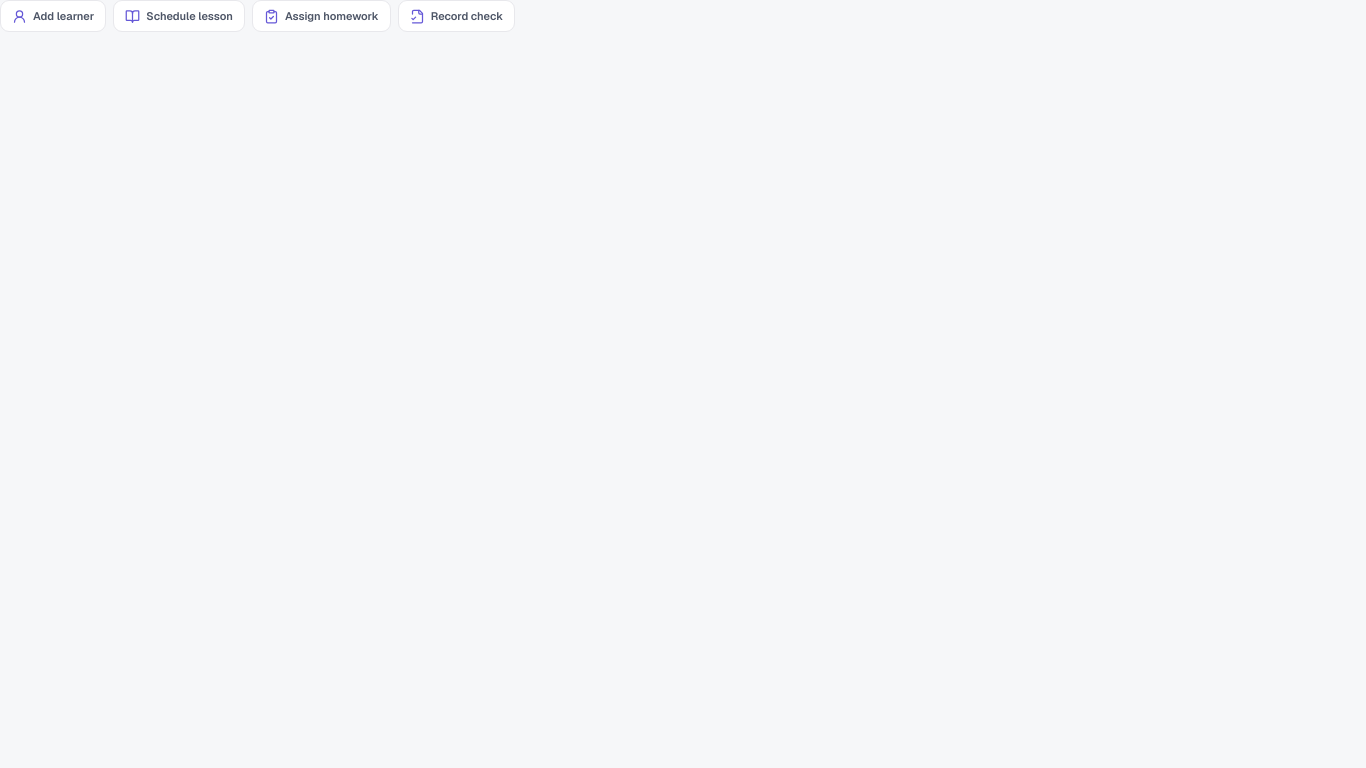
Test: adding a learner › reports field errors on an empty submit and does not close
What coordinates should you click on to do the following:
click the button "Add learner"
I would click on:
 (53, 16)
Its box is [0, 0, 106, 32].
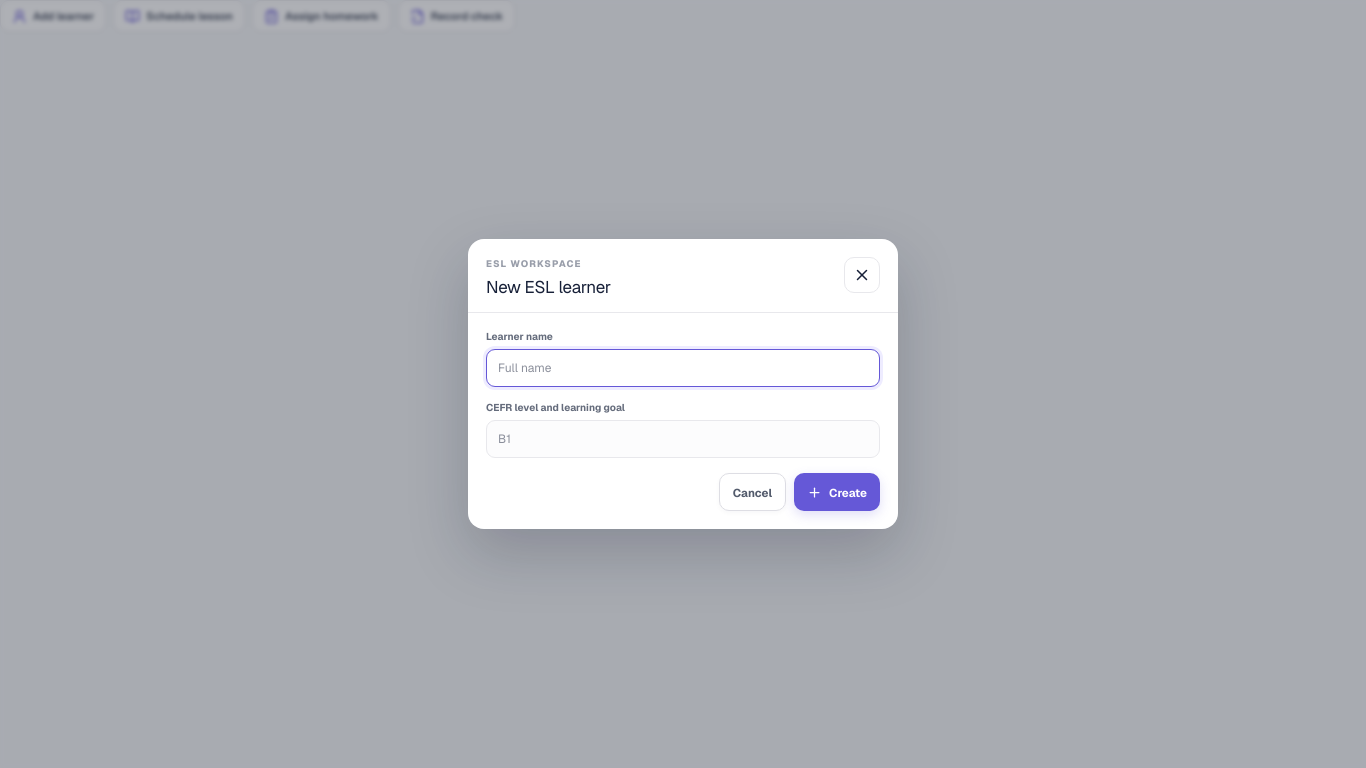
What coordinates should you click on to do the following:
click the button "Create"
I would click on:
 (837, 492)
Its box is [794, 473, 880, 511].
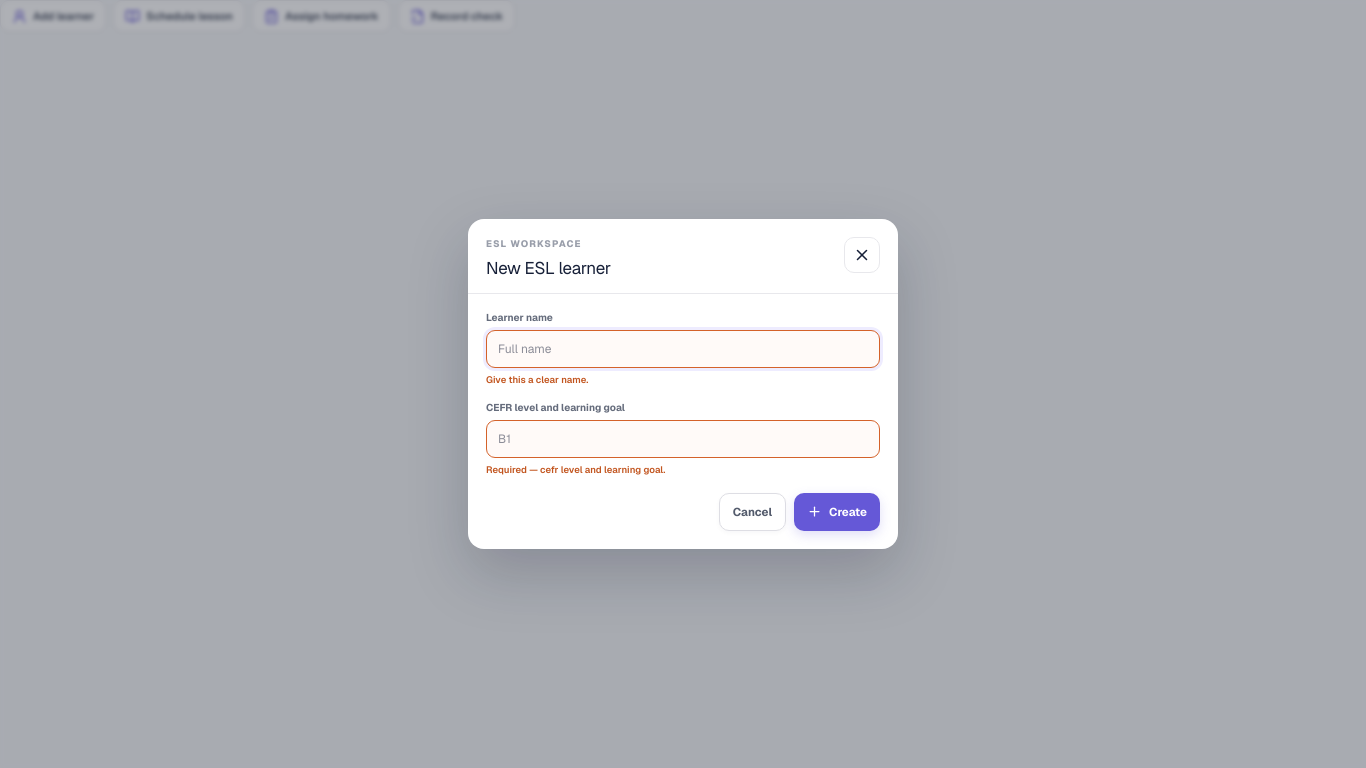
Expected: the dialog is shown, [468, 219, 898, 549]
Expected: the text "Give this a clear name." is shown, [486, 373, 588, 386]
